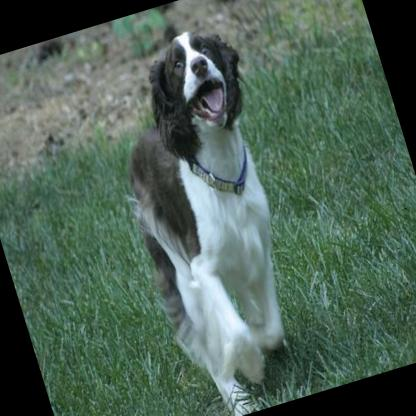English_springer: (87, 19, 334, 416)
